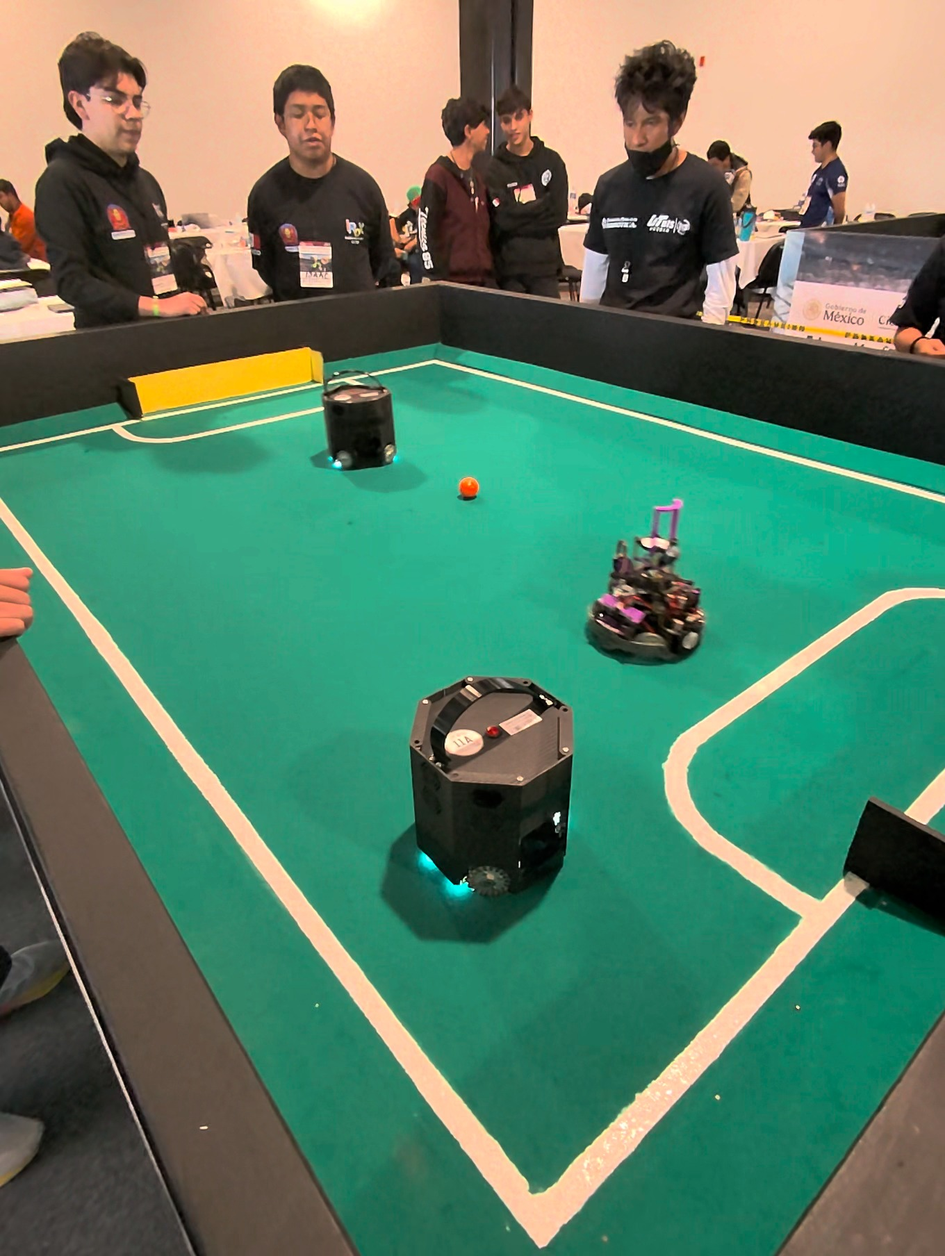Robot: (406, 647, 575, 943), (588, 509, 706, 668), (316, 362, 403, 486)
pelota: (460, 477, 482, 500)
